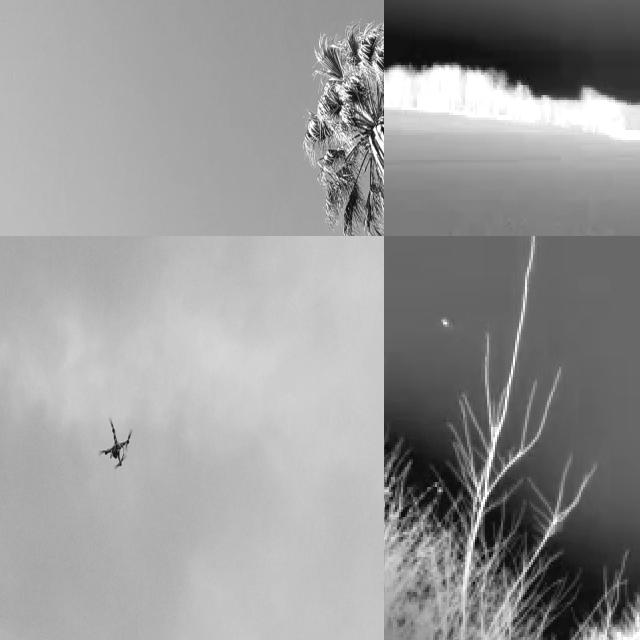0: (433, 311, 459, 341)
drone: (98, 417, 136, 472)
